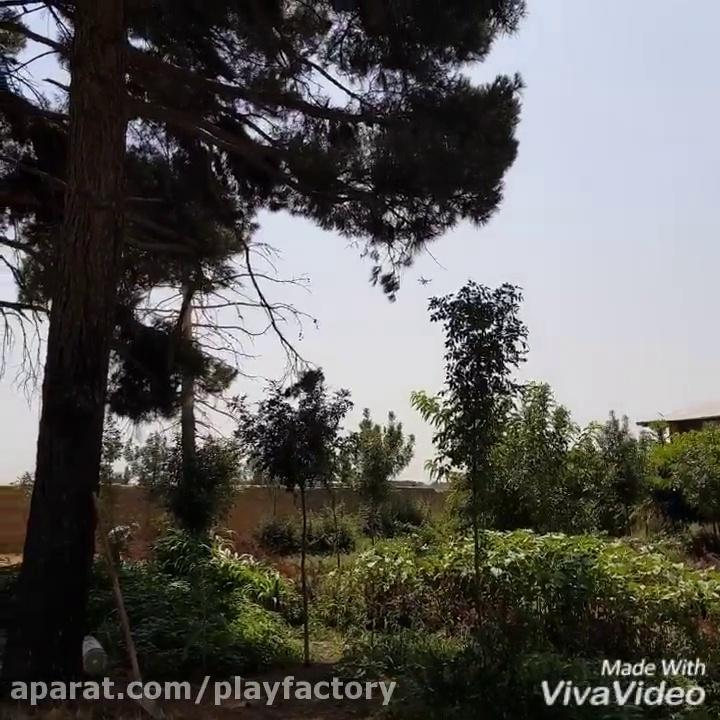drone: (413, 269, 436, 288)
